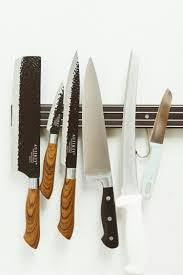Knife: (82, 55, 118, 248), (17, 55, 41, 248), (57, 49, 80, 239), (39, 80, 64, 199)
